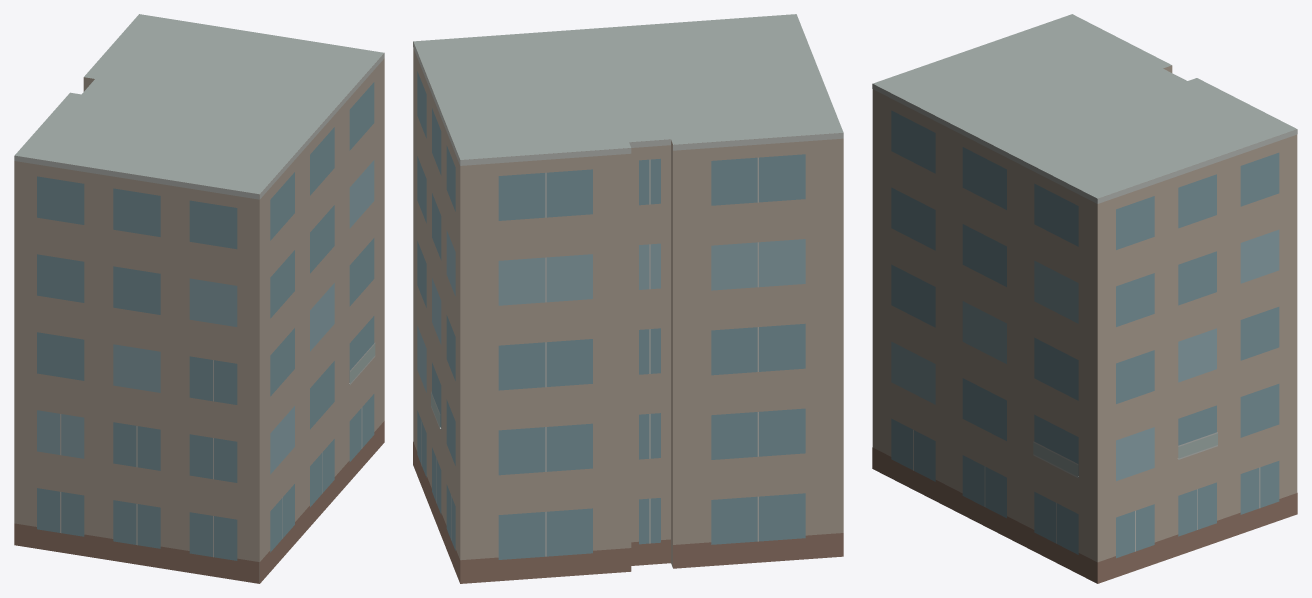
File: survey-upis-32845688.glb
3 renders of one model, left to right at view 1: azimuth 30°, elevation 25°; view 2: azimuth 150°, elevation 25°; view 3: azimuth 270°, elevation 25°, orthographic. The views are drawn at different scales.
Parts seen in each view (by area): view 1: survey-upis-32845688.tmp; view 2: survey-upis-32845688.tmp; view 3: survey-upis-32845688.tmp.
Part boxes in pixels (box(x1,y1,x2,y2)): survey-upis-32845688.tmp: box(14, 14, 384, 583); survey-upis-32845688.tmp: box(413, 14, 843, 583); survey-upis-32845688.tmp: box(872, 14, 1297, 583).
Bounding box in the file's own units: 18.08 × 17.57 × 17.57.
